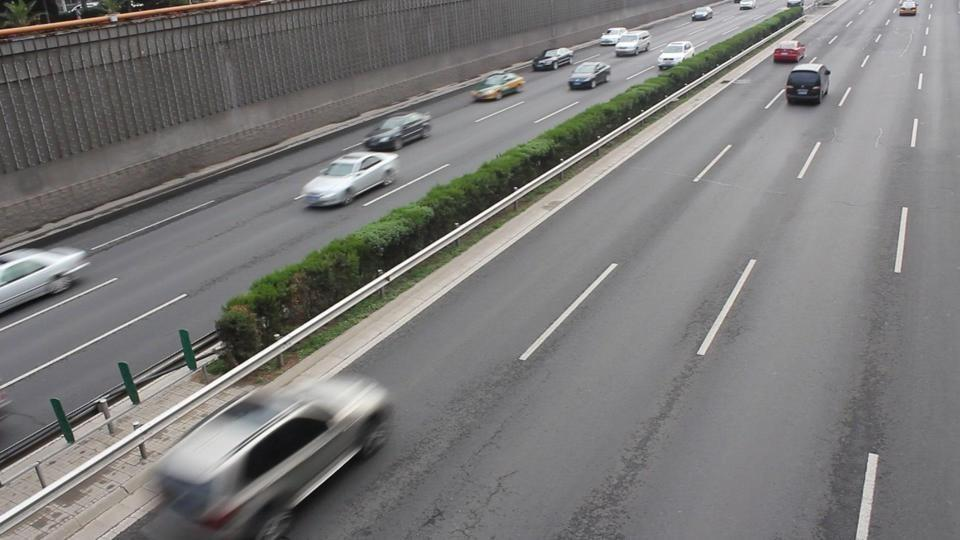car: (154, 372, 394, 536), (0, 245, 91, 313), (298, 149, 401, 209), (363, 112, 433, 151), (784, 64, 831, 105), (470, 71, 526, 102), (567, 62, 612, 90), (658, 41, 695, 70), (532, 47, 574, 71), (615, 32, 652, 57), (773, 39, 807, 63), (599, 27, 629, 45), (0, 388, 14, 420), (897, 0, 919, 16), (691, 6, 713, 21), (738, 0, 757, 10)
